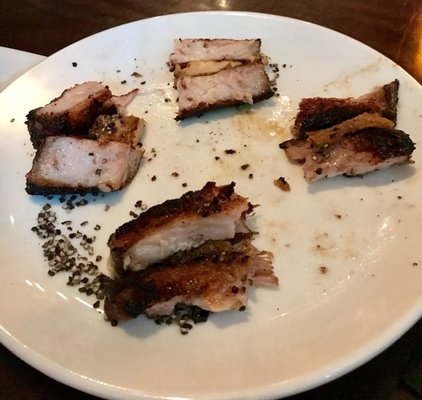sushi: (103, 180, 279, 329), (24, 80, 146, 194)
